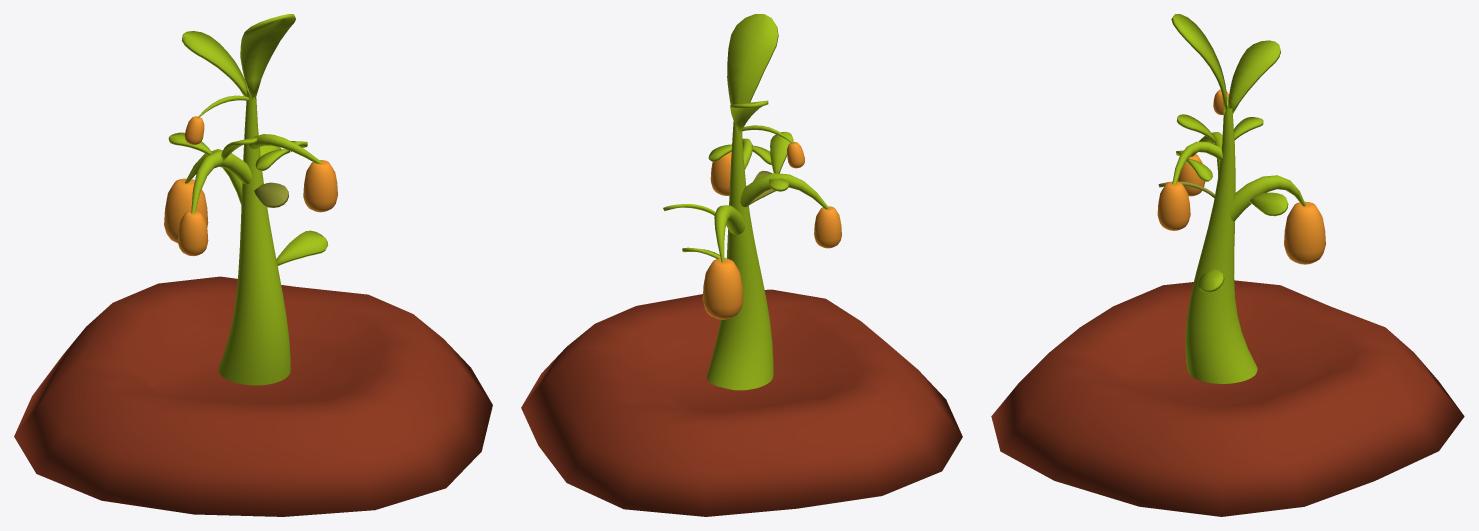
Rendered from Tomate_01.fbx.
The picture shows the model from 3 angles, left to right: view 1: azimuth 30°, elevation 25°; view 2: azimuth 150°, elevation 25°; view 3: azimuth 270°, elevation 25°; orthographic projection. The views are drawn at different scales.
Visible parts, largest first — view 1: Tomate_01; view 2: Tomate_01; view 3: Tomate_01.
Boxes of the visible parts, x1=… form: Tomate_01: x1=14, y1=14, x2=492, y2=516; Tomate_01: x1=521, y1=14, x2=962, y2=516; Tomate_01: x1=991, y1=14, x2=1464, y2=516.
Bounding box in the file's own units: 414 × 386 × 413.
